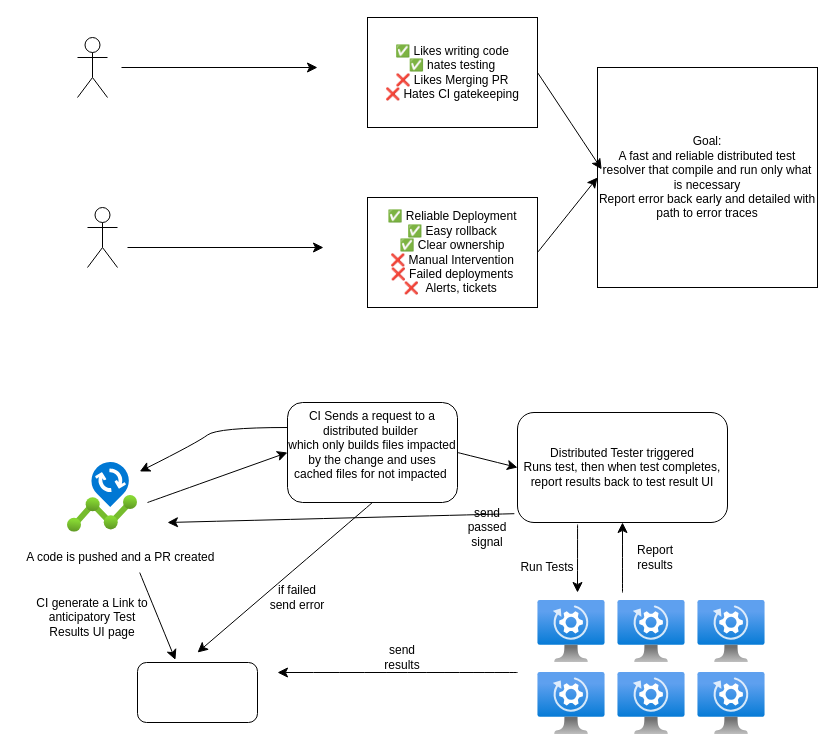
This 835x752 diagram has some shape labels left out. Here are the shapes that lost their labels. From the top down, the centre of each, then its label:
At pixel 92 67: "dev".
At pixel 102 237: "Ops".
At pixel 197 692: "Test Result display UI".
